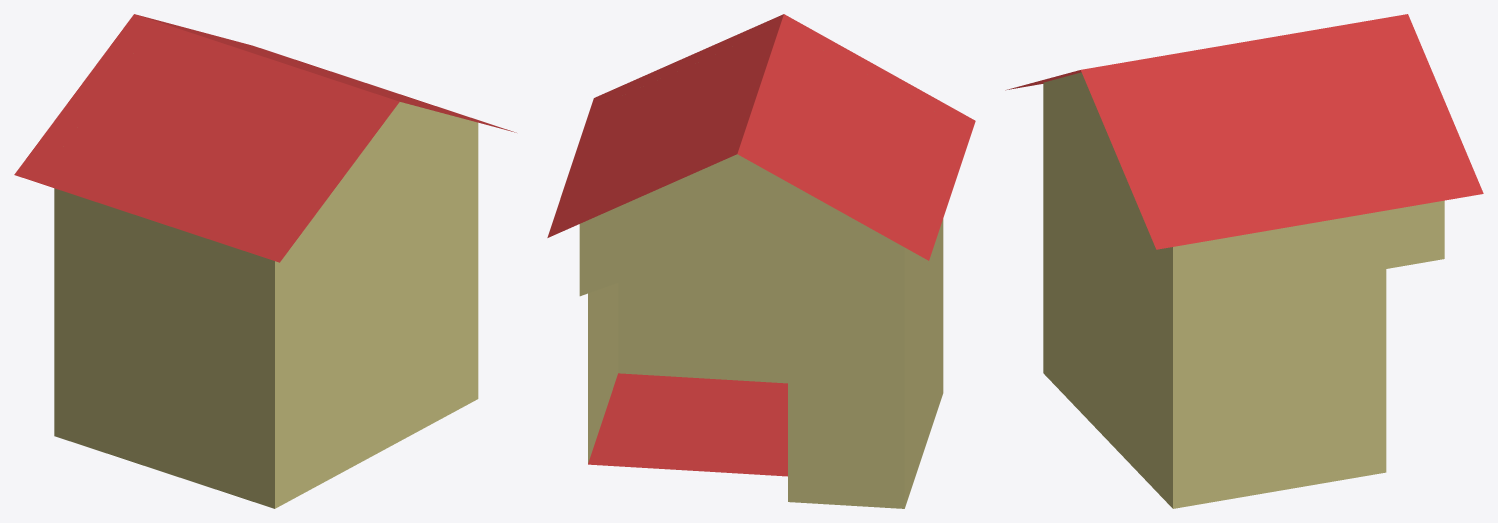
3 renders of one model, left to right at view 1: azimuth 30°, elevation 25°; view 2: azimuth 150°, elevation 25°; view 3: azimuth 270°, elevation 25°, orthographic. The views are drawn at different scales.
Size of the model in its own units: 12.68 by 11.95 by 10.34.
